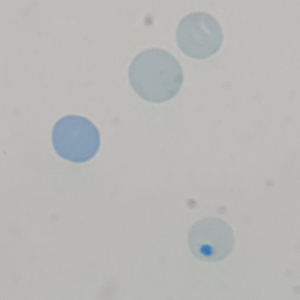erythrocyte: (127, 48, 185, 104), (50, 114, 102, 164), (186, 216, 236, 266), (174, 11, 224, 60)
